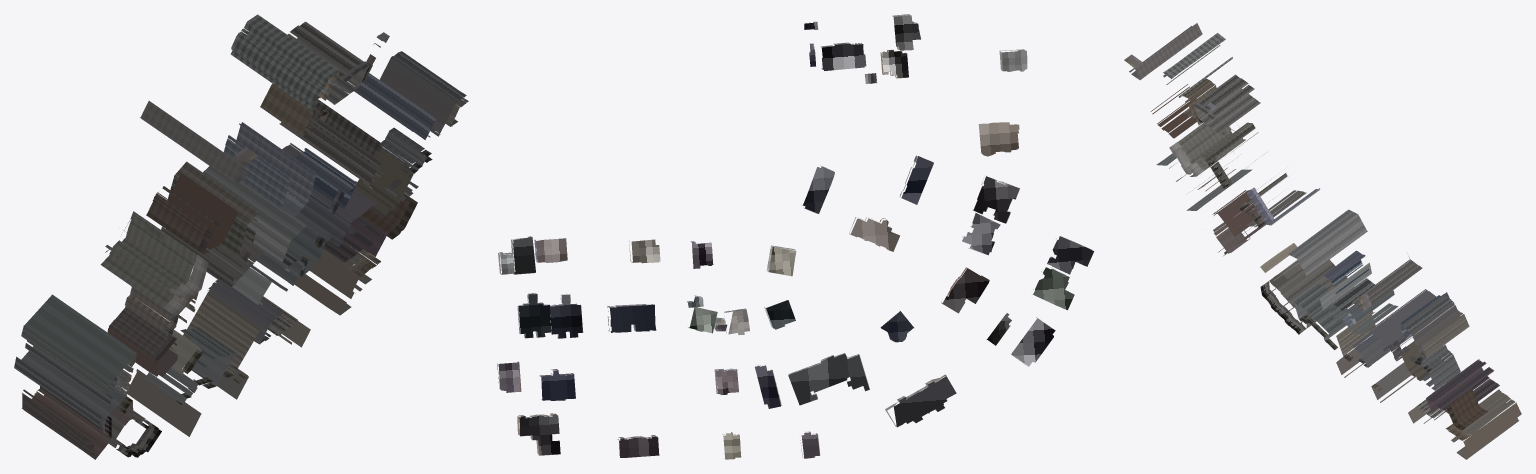
File: tile_LOD3_r1_c5.glb
The picture shows the model from 3 angles, left to right: view 1: azimuth 30°, elevation 25°; view 2: azimuth 150°, elevation 25°; view 3: azimuth 270°, elevation 25°; orthographic projection. The views are drawn at different scales.
Bounding box in the file's own units: 300 × 238 × 256.
Materials: 199 (196 with a texture image).
